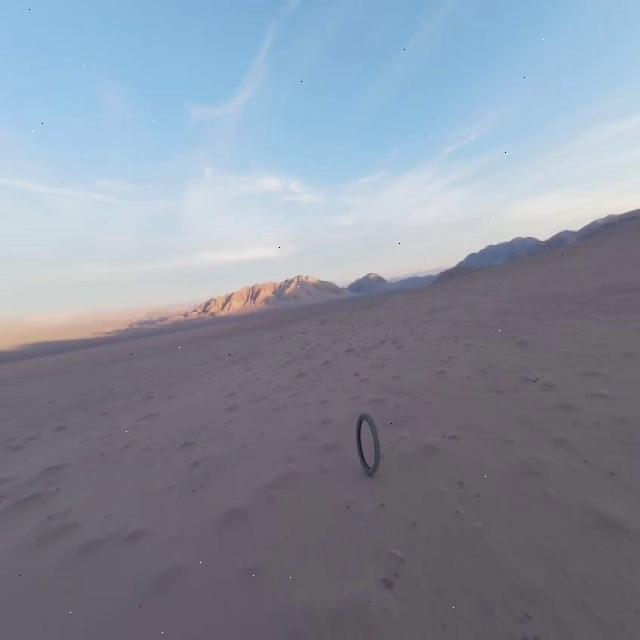Tire: (356, 412, 380, 475)
